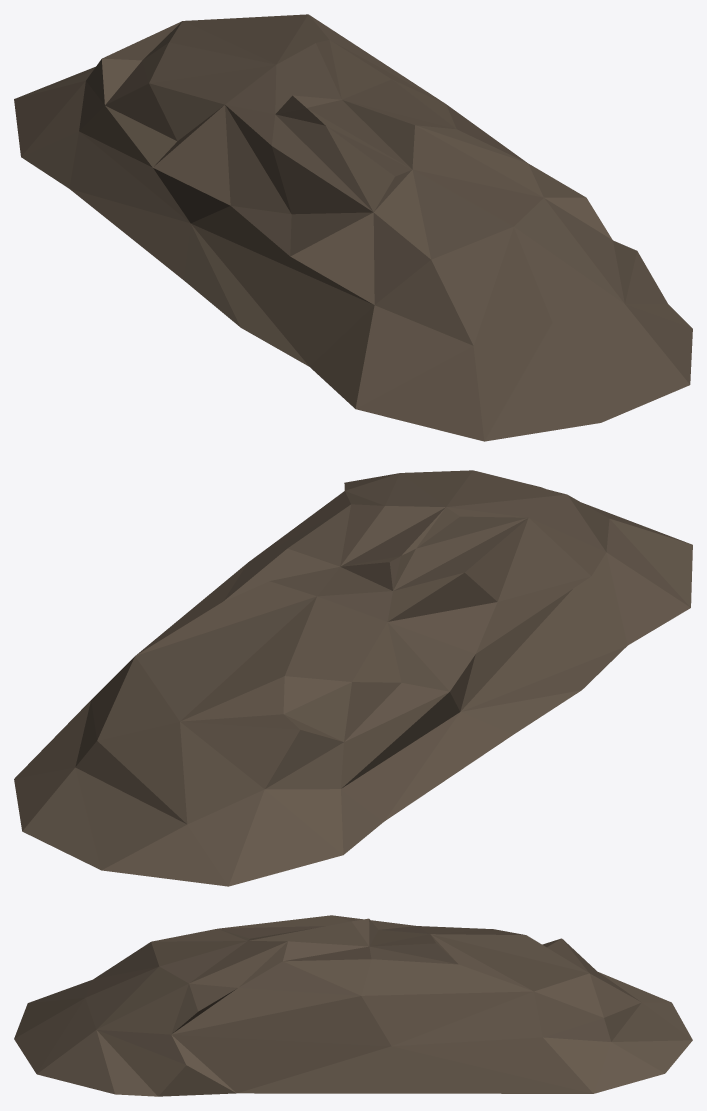
The model's file is grave_1_mat.fbx.
3 views of the same model, one above another, from view 1: azimuth 30°, elevation 25°; view 2: azimuth 150°, elevation 25°; view 3: azimuth 270°, elevation 25° (orthographic). The views are drawn at different scales.
Parts seen in each view (by area): view 1: grave_1_mat; view 2: grave_1_mat; view 3: grave_1_mat.
Boxes of the visible parts, x1,y1,x2,y2 form: grave_1_mat: (14,14,692,441); grave_1_mat: (14,470,692,886); grave_1_mat: (14,915,692,1096).
Size of the model in its own units: 356 by 149 by 884.
